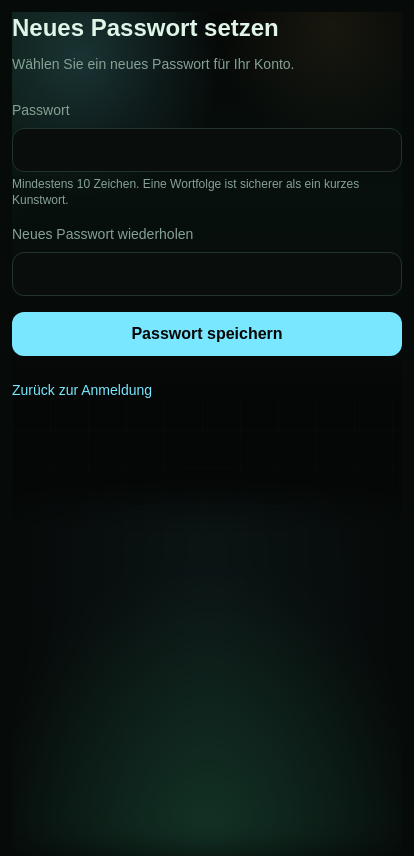
Passwort zurücksetzen › zeigt ein Bestätigungsfeld und blockiert Tippfehler
Type "korrekt pferd batterie" into the password field labelled "Passwort" at (207, 150), box x1=12 y1=128 x2=402 y2=172
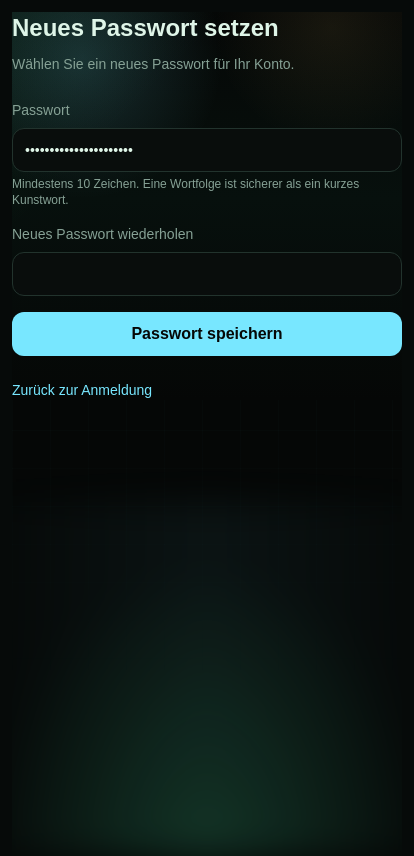
Type "korrekt pferd batterei" into the password field labelled "Neues Passwort wiederholen" at (207, 274), box x1=12 y1=252 x2=402 y2=296
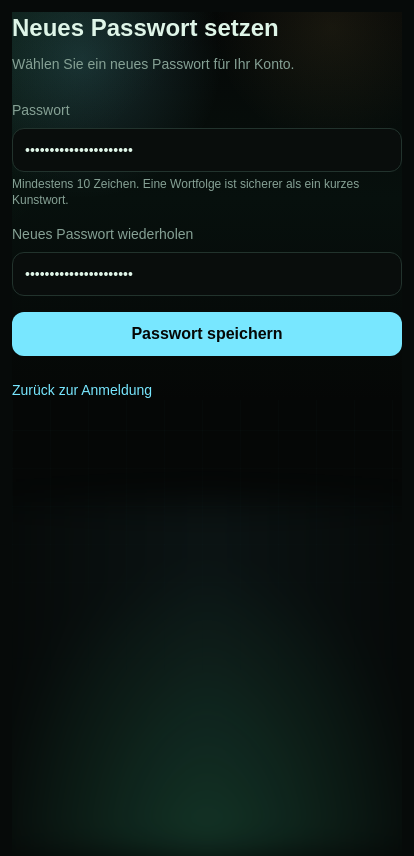
Click the button "Passwort speichern" at (207, 334), box x1=12 y1=312 x2=402 y2=356
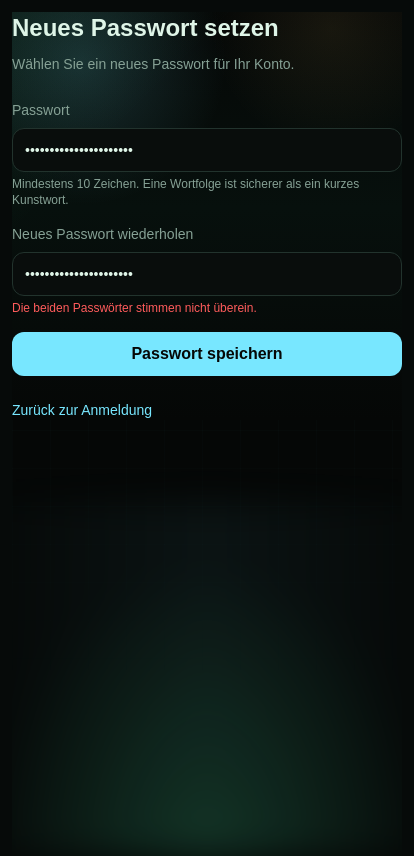
Now the text "Die beiden Passwörter stimmen nicht überein." is shown, box x1=12 y1=301 x2=257 y2=315
